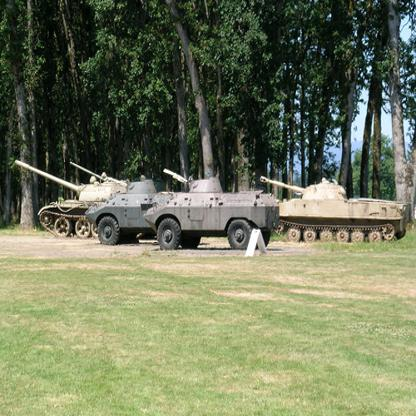Tank: (12, 153, 153, 251), (159, 165, 277, 254), (280, 173, 411, 250)
